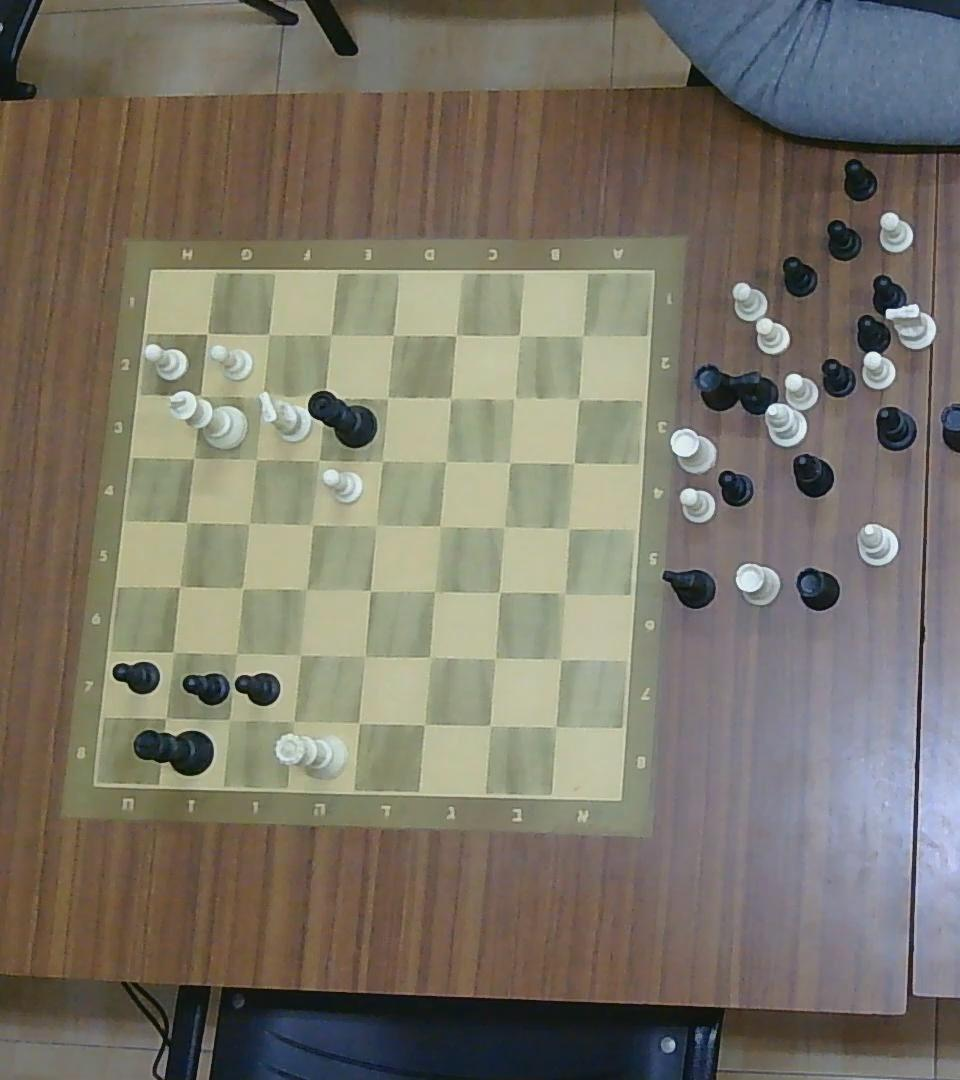xcorner: (477, 712, 503, 739), (246, 383, 272, 409), (542, 714, 569, 739), (411, 711, 437, 736), (418, 645, 442, 670), (281, 708, 305, 732), (482, 647, 506, 671), (347, 710, 371, 734), (353, 644, 376, 668), (288, 642, 311, 666), (154, 706, 178, 728), (319, 324, 341, 346), (218, 709, 240, 731), (439, 387, 461, 408), (549, 648, 571, 668), (372, 449, 392, 471), (188, 386, 210, 406), (366, 514, 386, 535), (423, 581, 443, 602), (225, 642, 245, 663), (499, 450, 519, 471), (296, 577, 315, 599), (183, 447, 203, 467), (376, 388, 396, 408), (429, 516, 449, 536), (445, 325, 465, 345), (559, 518, 579, 538), (383, 325, 403, 345), (247, 448, 266, 469), (170, 576, 189, 597), (302, 514, 321, 534), (435, 450, 454, 470), (361, 580, 380, 600), (489, 582, 508, 602), (555, 582, 574, 602), (177, 511, 196, 531), (259, 324, 278, 344), (314, 386, 333, 406), (240, 513, 259, 532), (198, 324, 217, 343), (164, 643, 183, 662), (495, 516, 513, 536), (309, 450, 327, 470), (505, 388, 523, 407), (564, 453, 583, 471), (511, 326, 529, 345), (573, 326, 591, 345), (233, 579, 251, 598), (572, 390, 588, 405)
